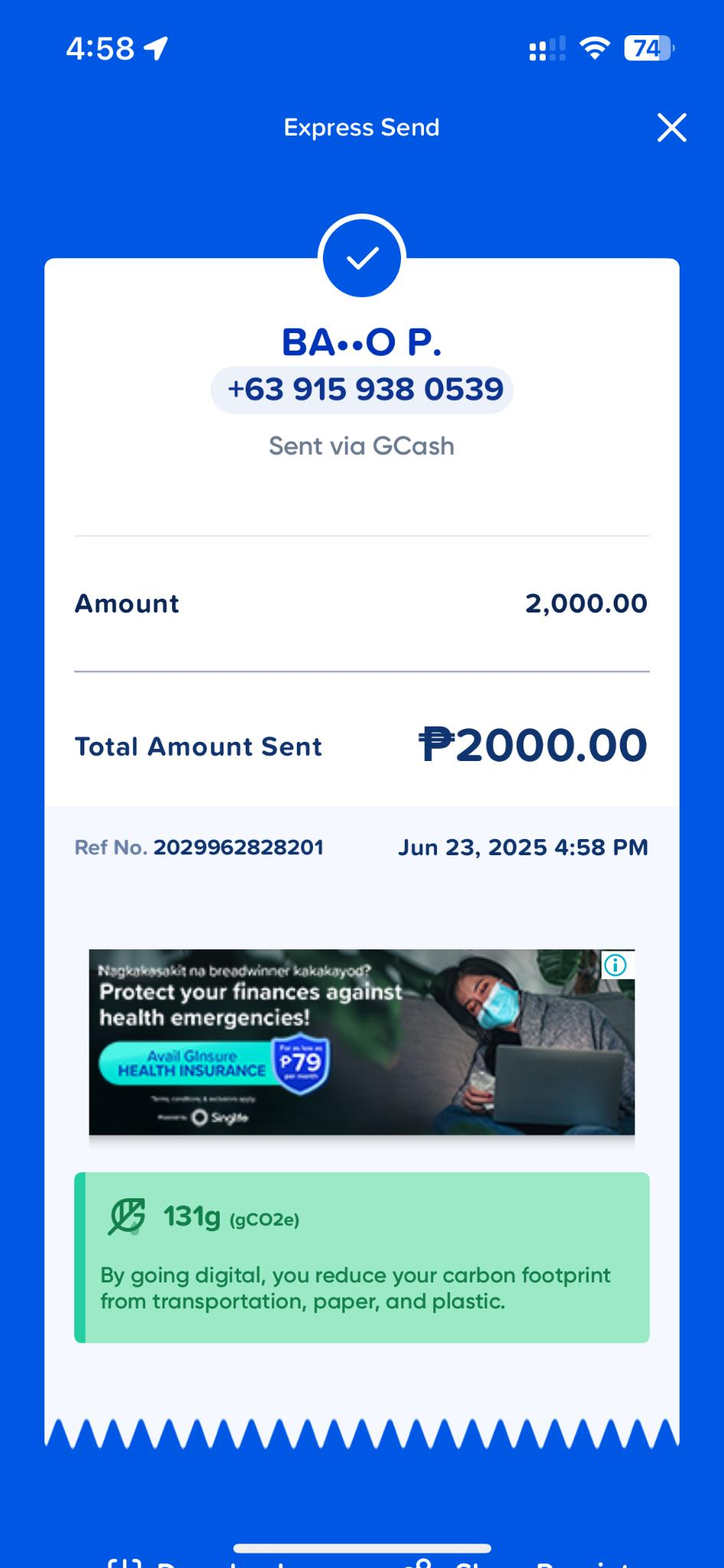Receipt: (0, 81, 724, 1567)
